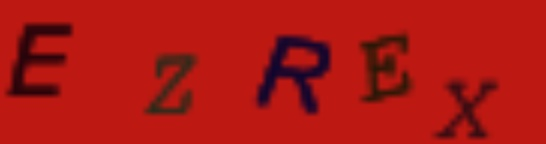E: (5, 16, 77, 100), (354, 30, 418, 107)
R: (250, 33, 337, 116)
X: (431, 76, 504, 144)
Z: (139, 49, 204, 115)
